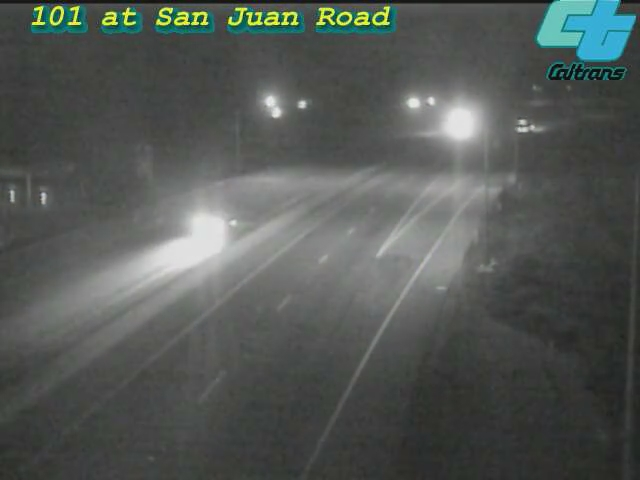vehicle: (163, 187, 243, 267), (433, 98, 483, 148), (502, 100, 552, 150)
